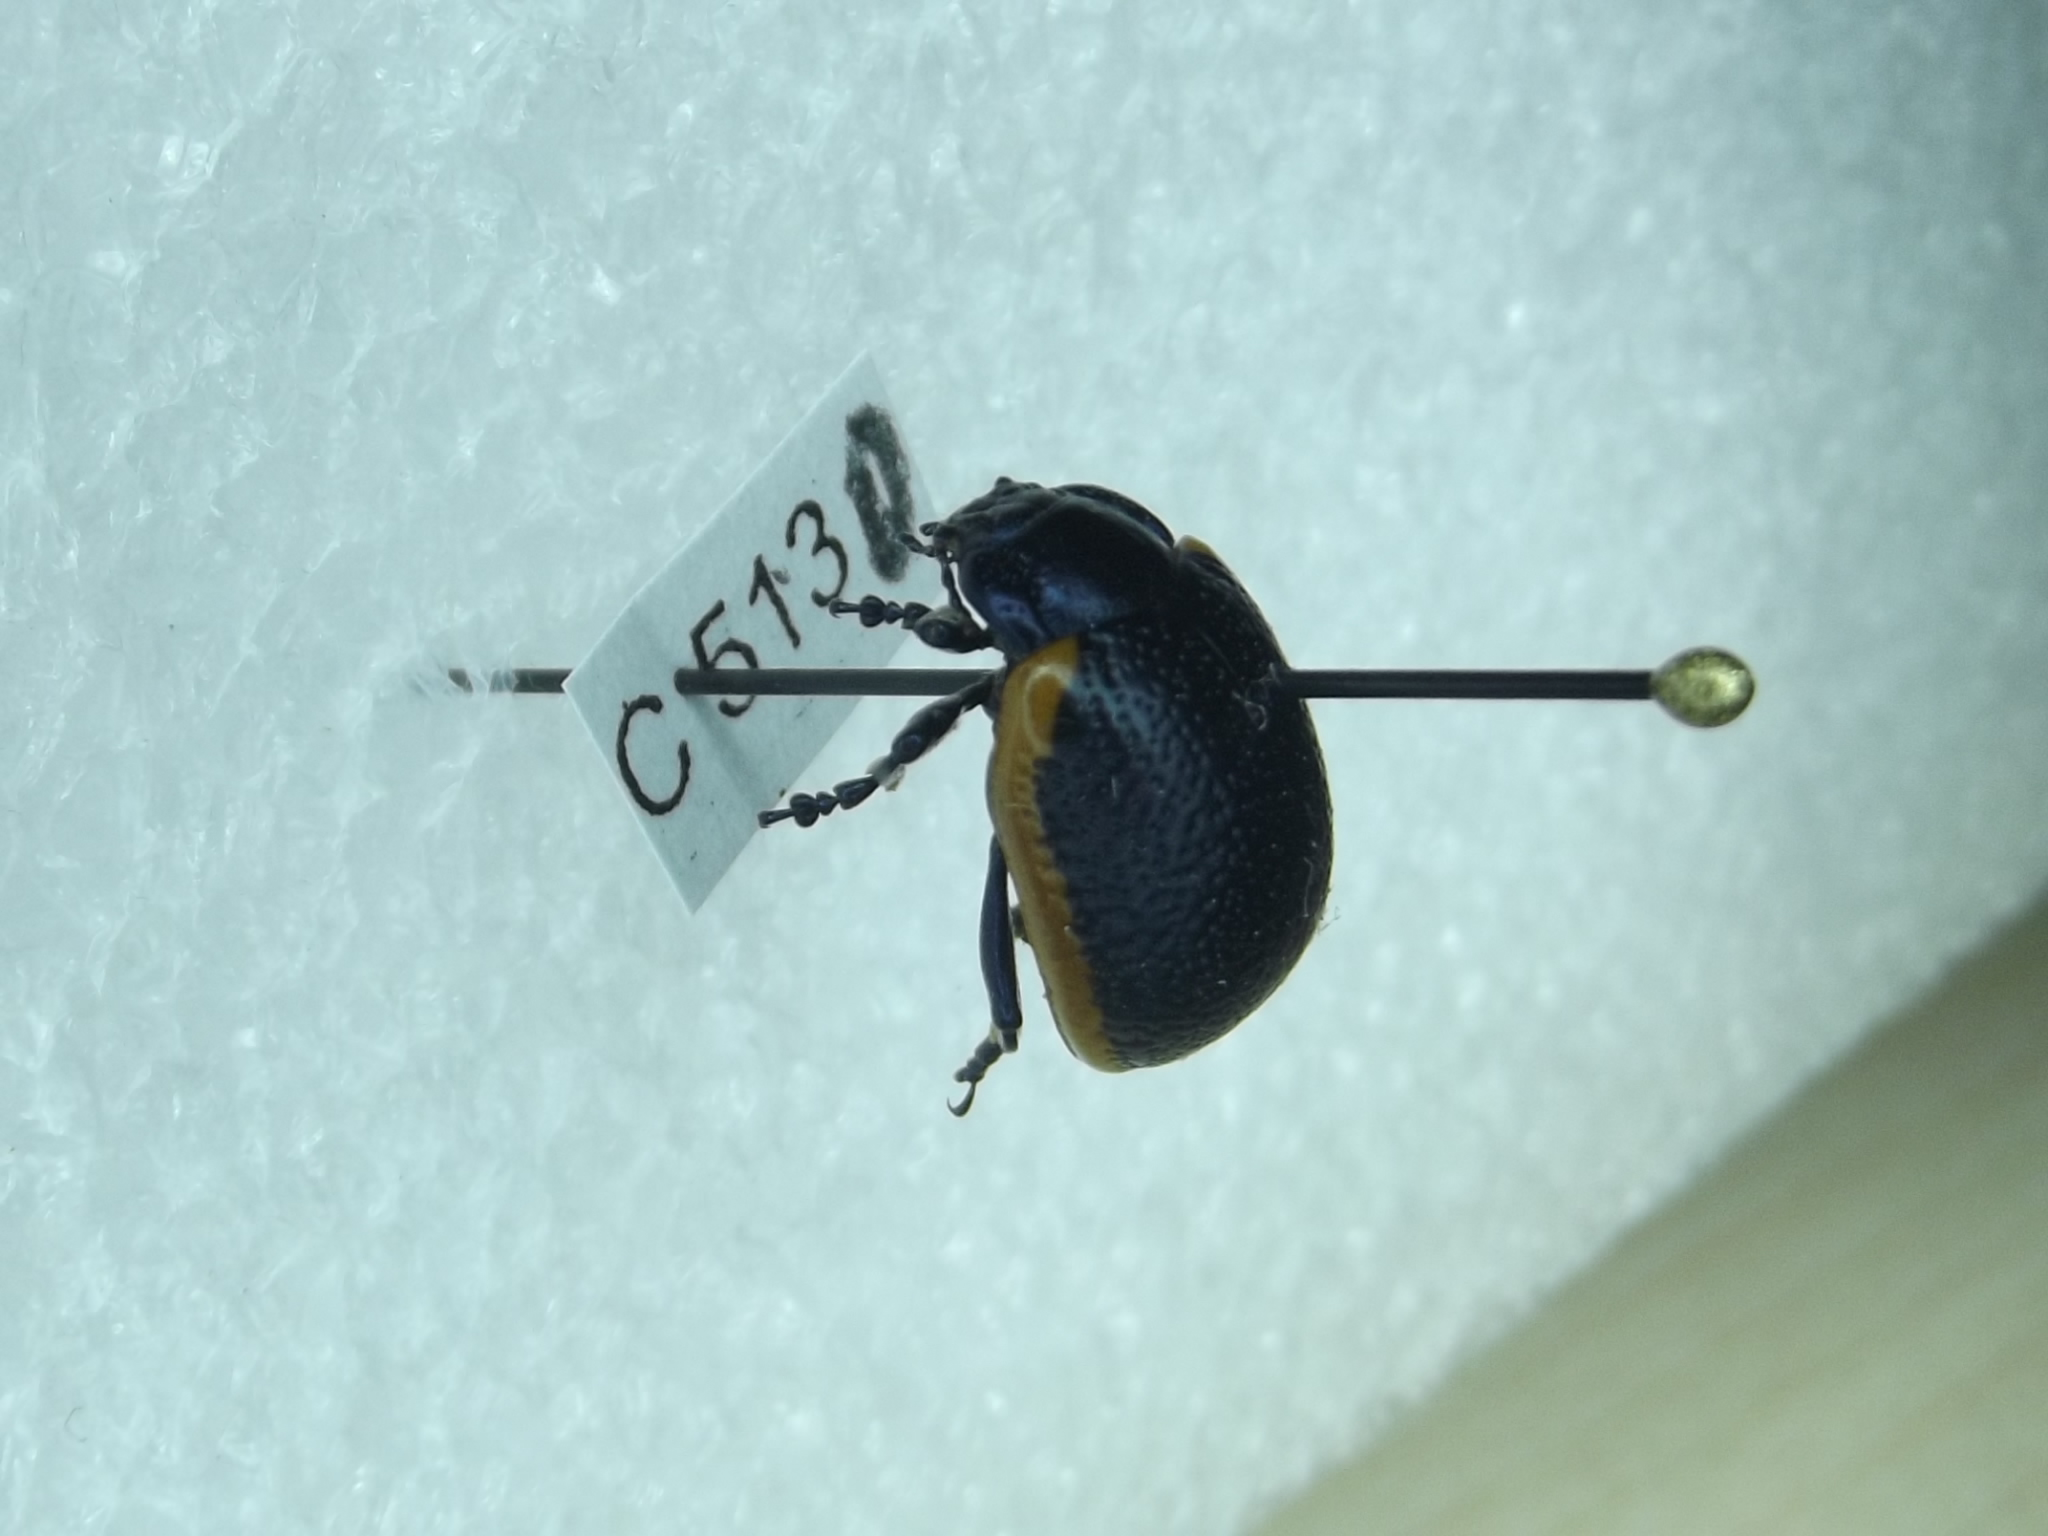Chrysolina_gypsophila: (735, 429, 1367, 1141)
